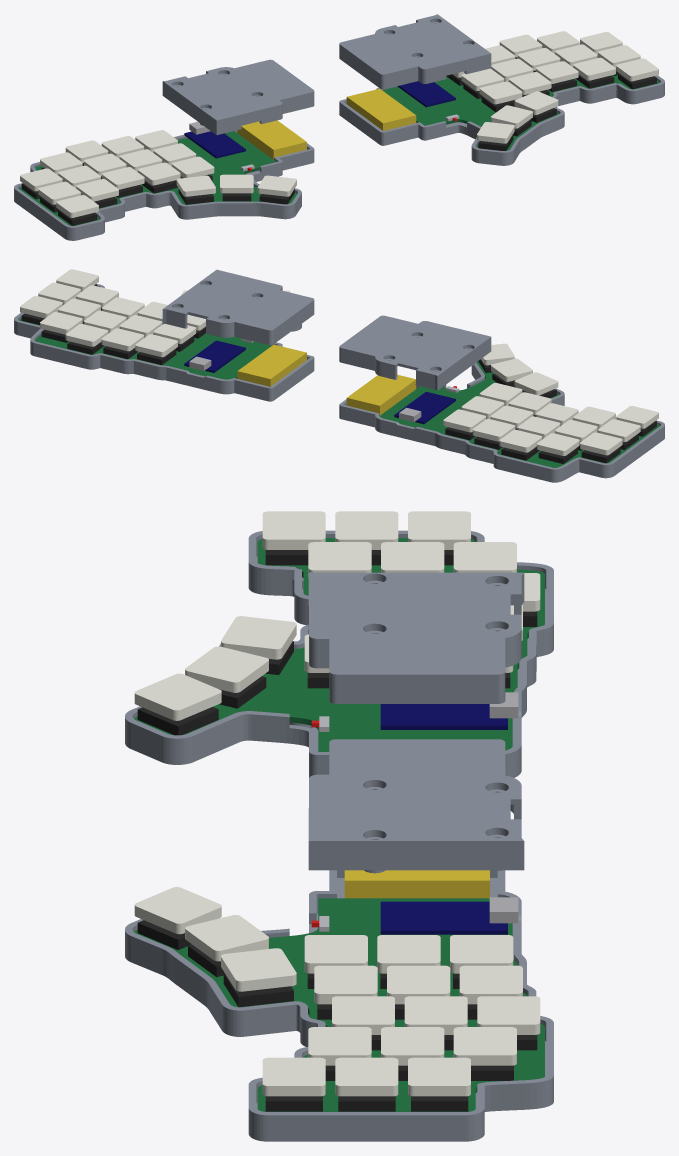
File: assembly_open.glb
3 renders of one model, top to bottom at view 1: azimuth 30°, elevation 25°; view 2: azimuth 150°, elevation 25°; view 3: azimuth 270°, elevation 25°, orthographic. The views are drawn at different scales.
Bounding box in the file's own units: 0.3616 × 0.0411 × 0.1122.
